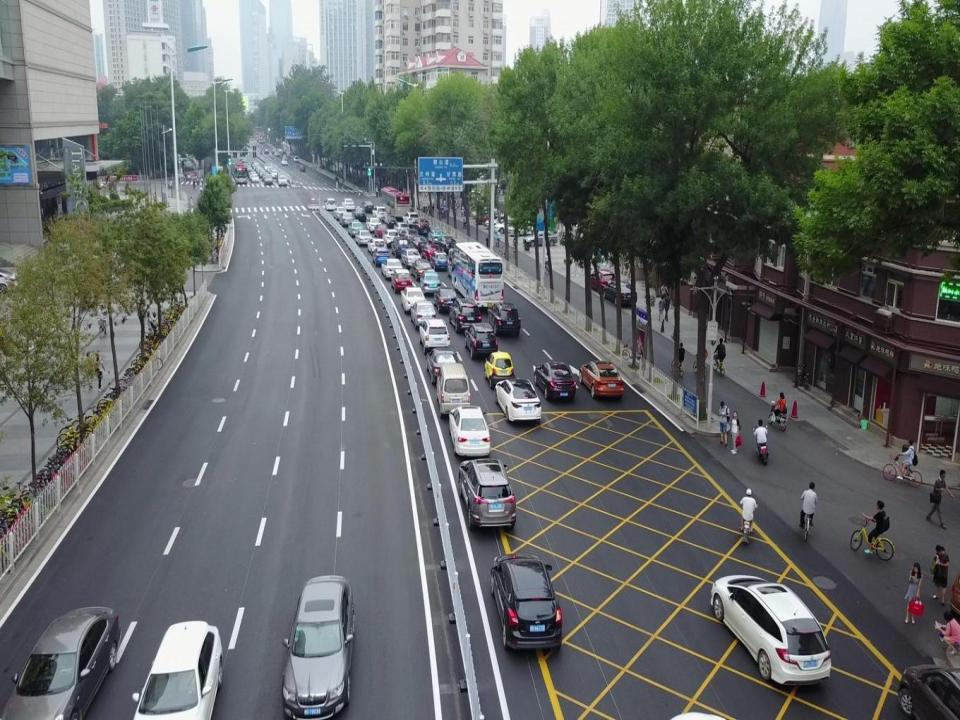bus: (450, 240, 504, 310), (380, 185, 410, 220), (234, 163, 247, 183)
car: (709, 574, 833, 683), (2, 605, 120, 718), (283, 573, 356, 717), (133, 618, 224, 720), (492, 552, 564, 655), (460, 457, 516, 532), (494, 378, 542, 426), (449, 403, 491, 457), (580, 358, 624, 402), (534, 359, 576, 402), (425, 345, 459, 385), (464, 322, 498, 360), (488, 301, 521, 340), (485, 349, 516, 389), (449, 297, 481, 334), (601, 276, 638, 308), (420, 318, 450, 355), (410, 300, 437, 330), (585, 269, 616, 294), (432, 285, 456, 312), (401, 287, 426, 312), (523, 228, 557, 246), (0, 269, 25, 293), (420, 268, 441, 295), (494, 216, 522, 234), (392, 268, 412, 292), (622, 339, 642, 360), (510, 218, 533, 236), (412, 259, 432, 279), (430, 252, 450, 272), (382, 258, 402, 277), (471, 204, 497, 218), (670, 351, 684, 377), (367, 236, 387, 254), (421, 243, 440, 261), (447, 259, 464, 279), (402, 248, 420, 266), (427, 227, 445, 245), (392, 236, 408, 256), (409, 234, 426, 252), (487, 214, 510, 227), (439, 236, 456, 253), (403, 210, 419, 228), (384, 228, 400, 246), (373, 248, 390, 264), (402, 228, 419, 244), (476, 213, 500, 224), (347, 220, 363, 236), (355, 230, 371, 246), (415, 218, 431, 234), (394, 221, 409, 236), (338, 212, 354, 226), (366, 218, 381, 232), (374, 225, 388, 238), (324, 197, 336, 210), (341, 198, 354, 210), (360, 199, 372, 211), (374, 207, 386, 219), (355, 207, 366, 220), (384, 216, 397, 227), (334, 207, 346, 218), (278, 174, 287, 186), (264, 175, 272, 185), (263, 162, 271, 172), (276, 173, 284, 183), (270, 169, 278, 178), (262, 171, 269, 181), (486, 234, 491, 248), (298, 164, 306, 172), (250, 160, 258, 168), (281, 157, 288, 166), (249, 171, 256, 180), (252, 173, 258, 183), (293, 155, 300, 163), (257, 168, 264, 176), (239, 148, 245, 156), (241, 160, 247, 168), (248, 168, 254, 176), (263, 147, 269, 154), (240, 157, 246, 164), (267, 166, 273, 173), (256, 149, 262, 155), (282, 154, 288, 160), (253, 162, 259, 168), (254, 164, 260, 170), (246, 165, 251, 172), (274, 151, 279, 157), (282, 150, 286, 156), (278, 149, 282, 154), (272, 149, 275, 154)
van: (437, 362, 471, 418)
